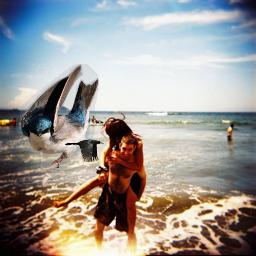Crow: (65, 139, 104, 162)
Swallow: (20, 64, 99, 171)
